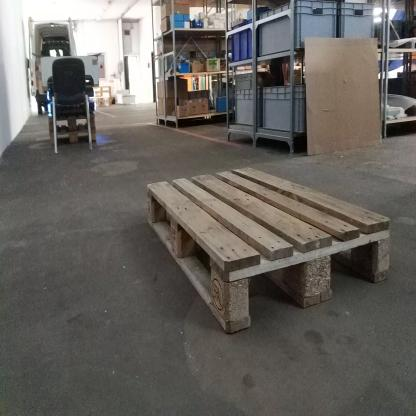BoxFace: (144, 162, 394, 338)
